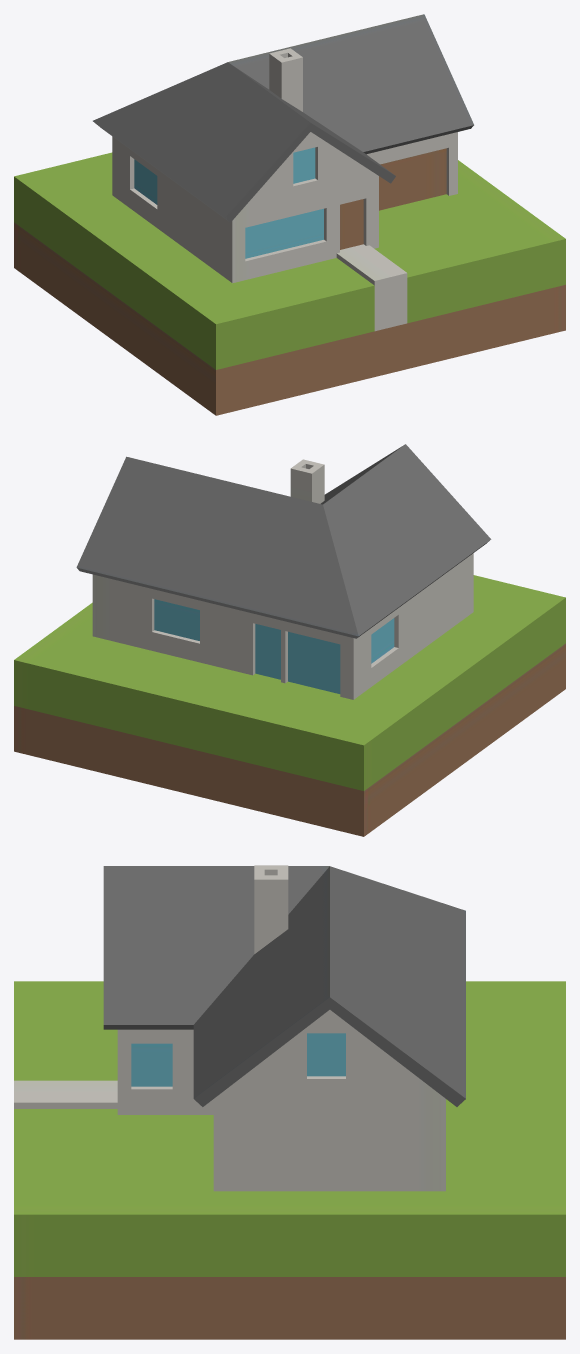
Rendered from building-house0.obj.
3 renders of one model, top to bottom at view 1: azimuth 30°, elevation 25°; view 2: azimuth 150°, elevation 25°; view 3: azimuth 270°, elevation 25°, orthographic. The views are drawn at different scales.
Parts seen in each view (by area): view 1: house-country_Cube.026; view 2: house-country_Cube.026; view 3: house-country_Cube.026.
Boxes of the visible parts, x1,y1,x2,y2 form: house-country_Cube.026: (14,14,565,415); house-country_Cube.026: (14,444,565,836); house-country_Cube.026: (14,865,565,1339).
Bounding box in the file's own units: 8 × 5.49 × 8.
